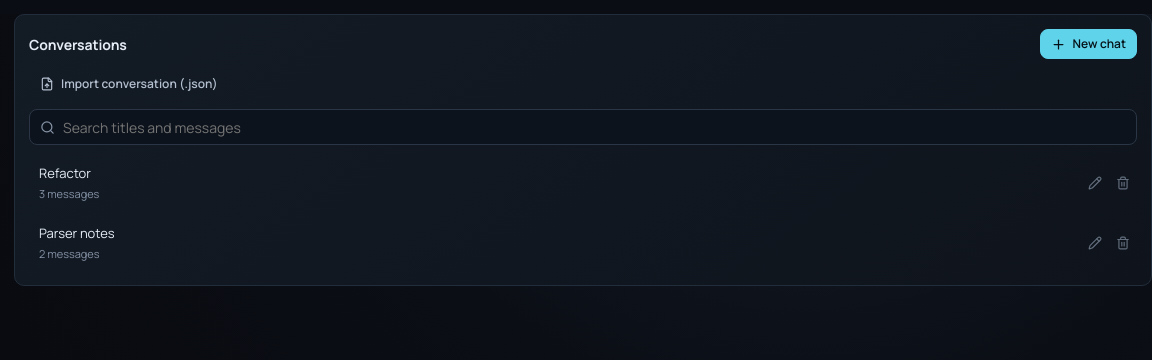
Scenario: ConversationList content search › searches message content after a pause and marks the matching words in snippets
Type "tokenizer" into the search field named "Search conversation titles and messages".
click(594, 127); type("tokenizer")  # box x1=63 y1=110 x2=1126 y2=144
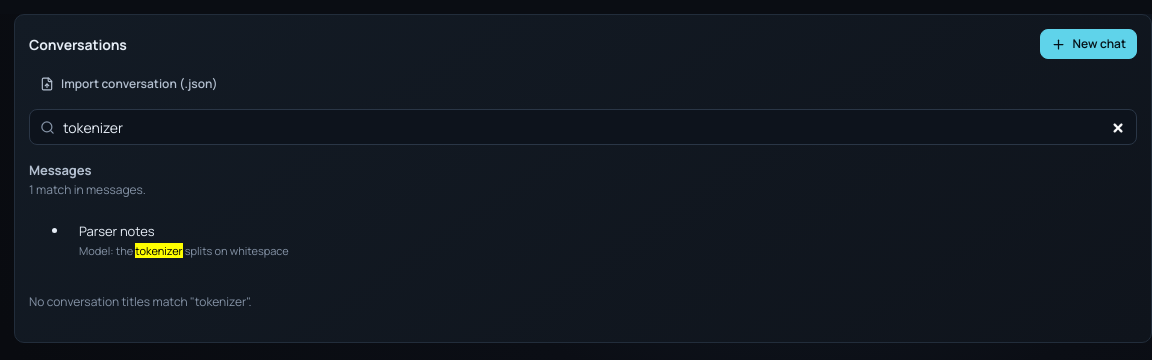
Result: the text "1 match in messages." is shown at x1=29 y1=180 x2=146 y2=198
